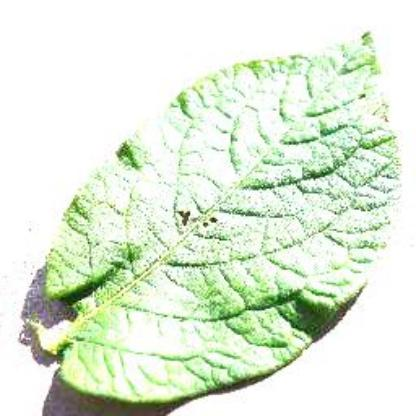Healthy-plant: (32, 18, 404, 412)
